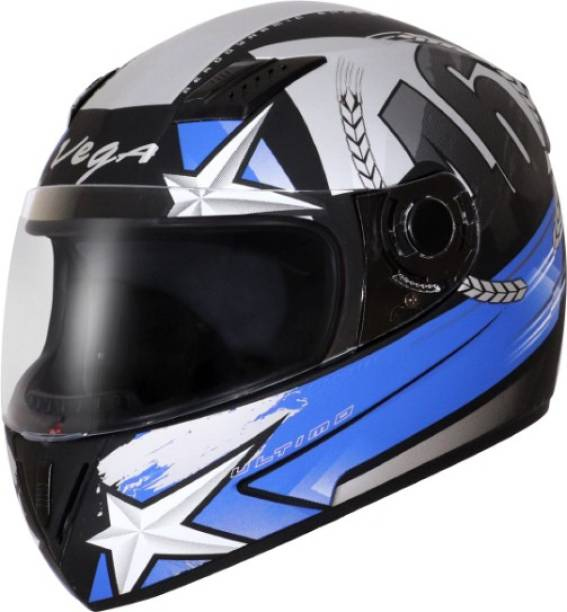with_helmet: (3, 1, 565, 612)
